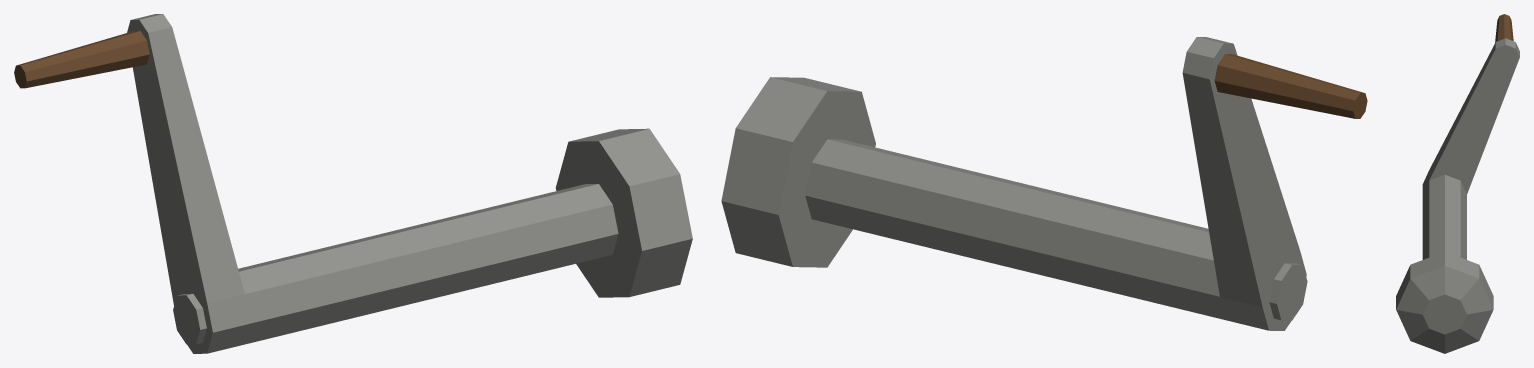
File: Gatling Arm.fbx
The picture shows the model from 3 angles, left to right: view 1: azimuth 30°, elevation 25°; view 2: azimuth 150°, elevation 25°; view 3: azimuth 270°, elevation 25°; orthographic projection. The views are drawn at different scales.
Visible parts, largest first — view 1: Gutling Arm; view 2: Gutling Arm; view 3: Gutling Arm.
Boxes of the visible parts, left/top/right/bottom form: Gutling Arm: left=14, top=14, right=692, bottom=353; Gutling Arm: left=721, top=37, right=1367, bottom=330; Gutling Arm: left=1396, top=14, right=1519, bottom=353.
Size of the model in its own units: 99.36 by 53.97 by 31.82.
